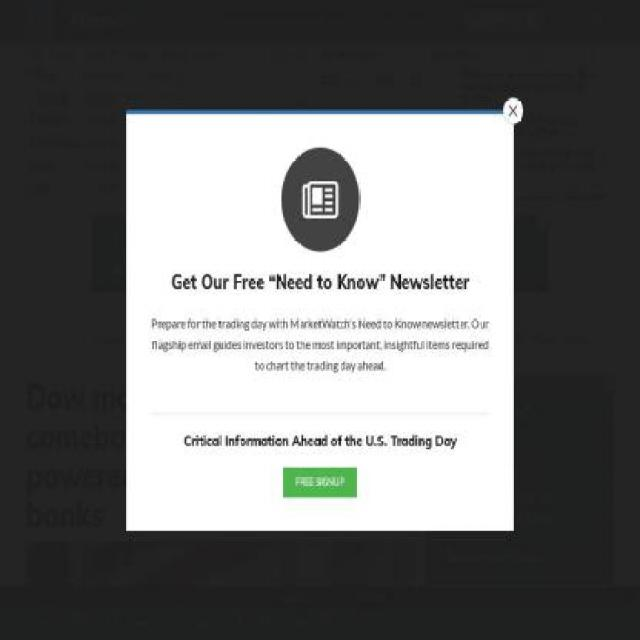button: (25, 541, 414, 640), (426, 142, 614, 187), (426, 342, 614, 387), (426, 187, 614, 231), (426, 265, 614, 309), (426, 421, 614, 465), (426, 65, 614, 108), (426, 109, 614, 143), (426, 230, 614, 264), (426, 309, 614, 343), (426, 387, 614, 421), (67, 9, 173, 33), (25, 607, 98, 639), (284, 607, 356, 639), (283, 467, 357, 498), (97, 607, 165, 639), (163, 607, 231, 639), (462, 9, 544, 33), (314, 66, 369, 100), (314, 132, 369, 166), (314, 166, 369, 200), (370, 66, 425, 100), (370, 132, 425, 166), (370, 166, 425, 200), (314, 99, 369, 132), (370, 99, 425, 132), (230, 607, 285, 639), (408, 0, 435, 42), (319, 591, 386, 603), (432, 50, 478, 61)
field: (292, 49, 308, 62)
